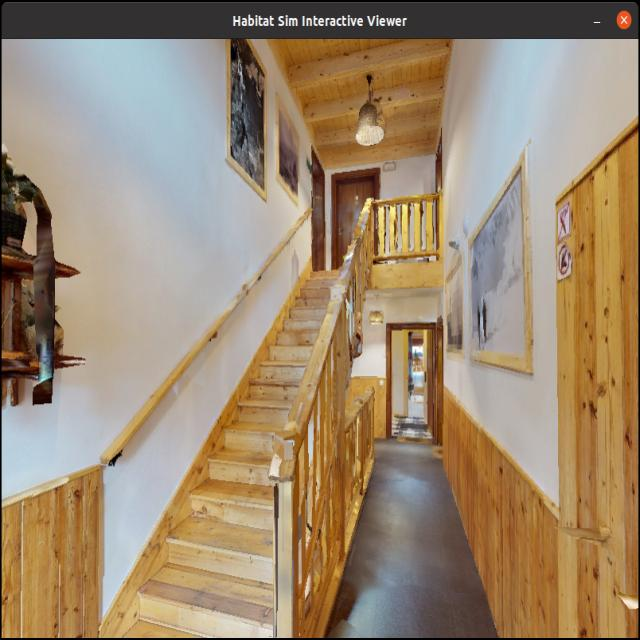door-frame: (381, 322, 437, 450)
stairs: (140, 232, 390, 632)
